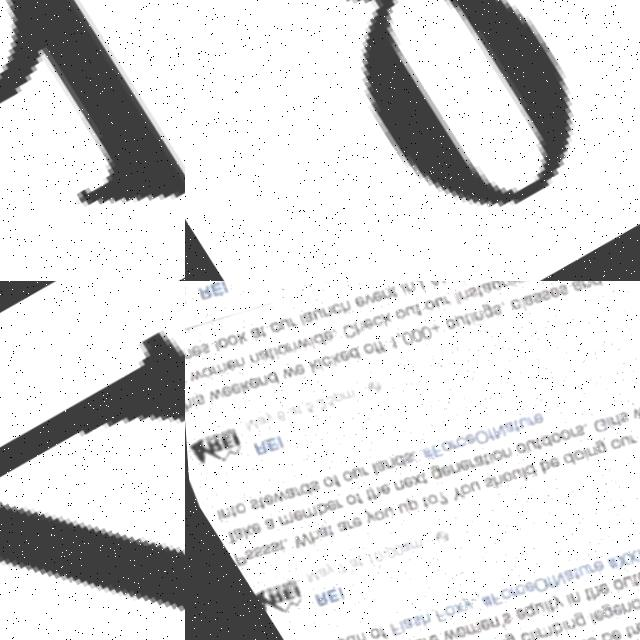0: (403, 324, 422, 345), (394, 328, 413, 348), (412, 322, 431, 342), (382, 540, 401, 559), (375, 543, 393, 561), (363, 548, 380, 565)
1: (380, 333, 396, 351), (355, 552, 369, 566)
2: (308, 394, 326, 412)
5: (295, 397, 313, 416), (315, 391, 333, 410)
6: (267, 407, 285, 425)
7: (326, 558, 344, 577)
8: (185, 0, 629, 258)
D: (0, 0, 185, 281)
Z: (0, 281, 185, 640)
